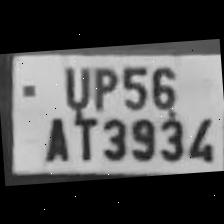3: (154, 110, 186, 164), (95, 112, 128, 162)
4: (183, 110, 217, 164)
5: (114, 60, 150, 110)
6: (146, 62, 181, 108)
9: (125, 113, 156, 164)
A: (33, 110, 72, 164)
P: (86, 61, 119, 110)
T: (66, 108, 100, 162)
U: (56, 60, 92, 108)
